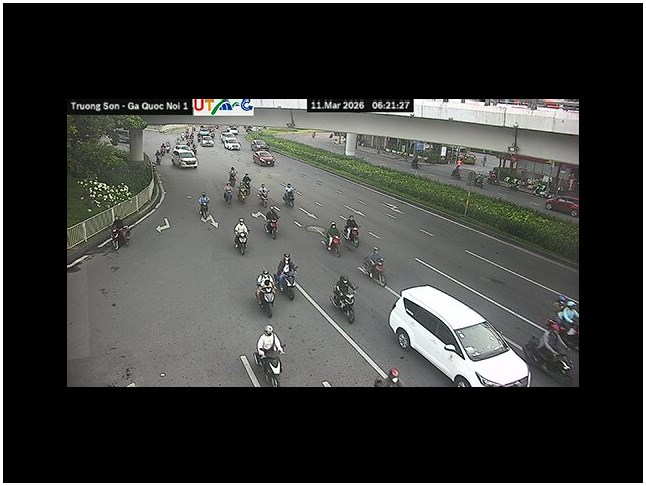car: (389, 284, 529, 386), (172, 146, 198, 168), (252, 150, 275, 167), (221, 136, 241, 151)
motorbike: (330, 274, 357, 324), (234, 219, 249, 254)
